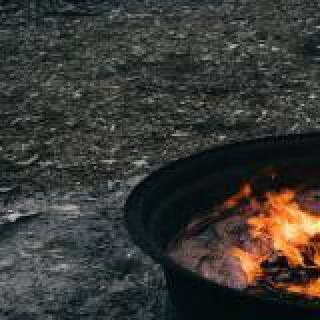fire: (220, 178, 320, 314)
